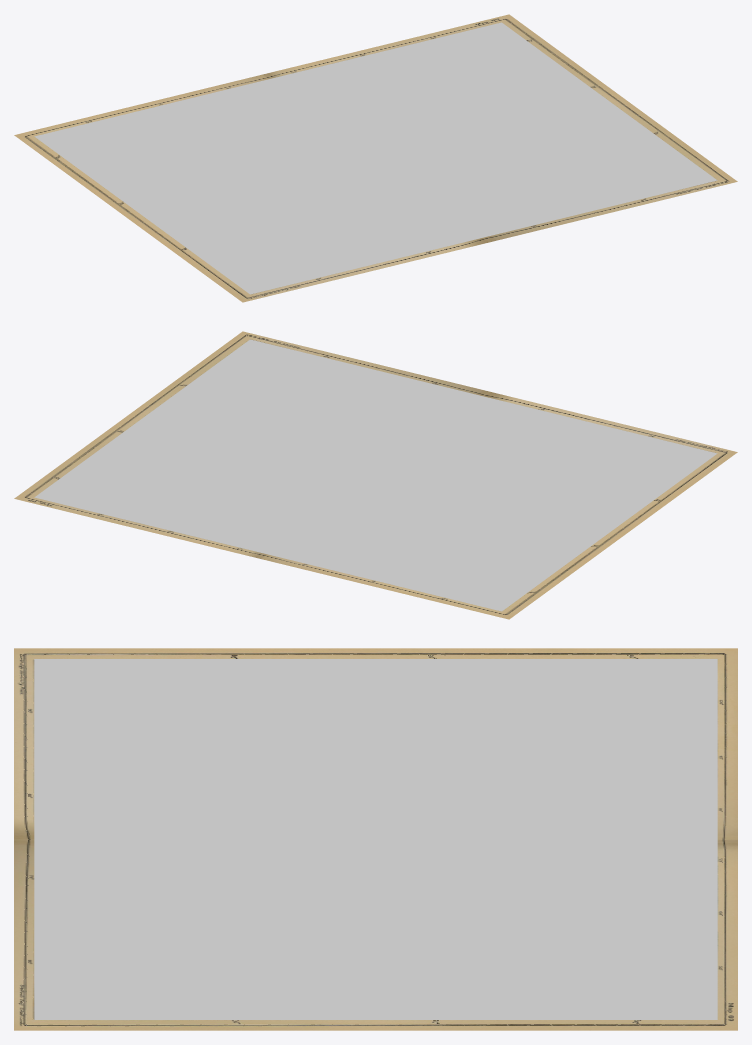
The model's file is Map.glb.
3 renders of one model, top to bottom at view 1: azimuth 30°, elevation 25°; view 2: azimuth 150°, elevation 25°; view 3: azimuth 270°, elevation 25°, orthographic. The views are drawn at different scales.
Visible parts, largest first — view 1: Plane; view 2: Plane; view 3: Plane.
Part boxes in pixels (left/top/right/bottom): Plane: left=14, top=14, right=737, bottom=302; Plane: left=14, top=331, right=737, bottom=619; Plane: left=14, top=648, right=737, bottom=1030.
Size of the model in its own units: 100 by 0 by 80.
Materials: 2 (1 with a texture image).
